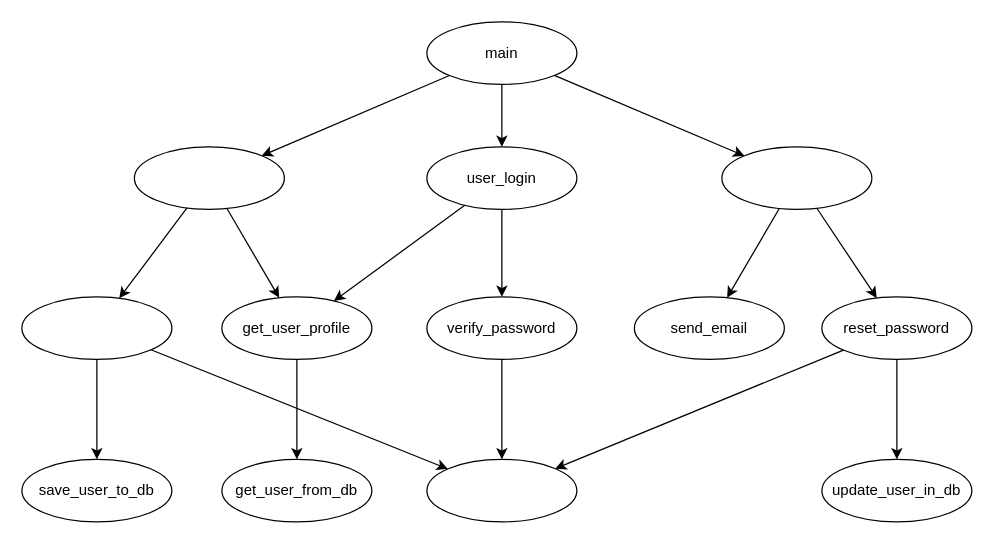
Some shapes in this 994 by 544 pixel diagram are drawn without their labels. The shapes that lost their labels are listed below. From the top down, each one's centre as x and y in pixels, then its label:
At [208,177]: "user_signup".
At [796,177]: "forget_password".
At [96,327]: "create_user".
At [501,490]: "hash_password".
